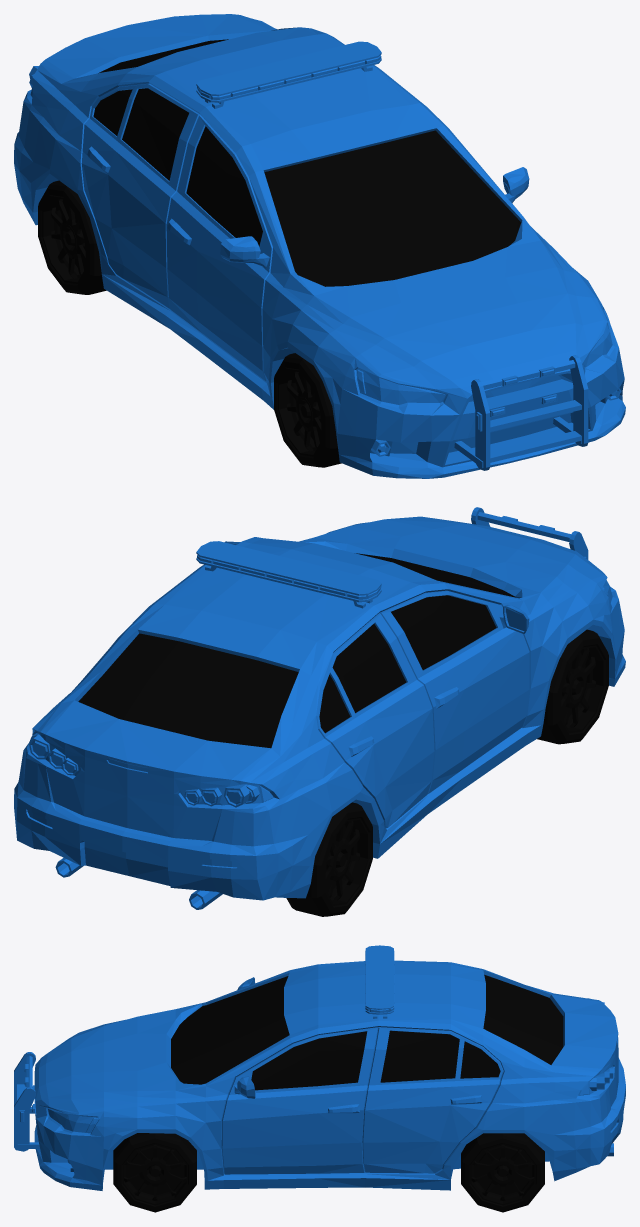
Rendered from HALF_police_car.fbx.
The picture shows the model from 3 angles, top to bottom: view 1: azimuth 30°, elevation 25°; view 2: azimuth 150°, elevation 25°; view 3: azimuth 270°, elevation 25°; orthographic projection. The views are drawn at different scales.
Visible parts, largest first — view 1: Symmetry_5, Cylinder_3, Cylinder_4; view 2: Symmetry_5, Cylinder_4, Cylinder_3; view 3: Symmetry_5, Cylinder_1, Cylinder_4.
Boxes of the visible parts, x1,y1,x2,y2 form: Symmetry_5: (14,14,625,478); Cylinder_3: (274,353,341,467); Cylinder_4: (38,180,106,294); Symmetry_5: (14,507,625,909); Cylinder_4: (286,802,372,916); Cylinder_3: (537,629,608,744); Symmetry_5: (14,945,625,1190); Cylinder_1: (113,1133,196,1212); Cylinder_4: (461,1133,544,1212).
Size of the model in its own units: 184 by 145 by 433.
